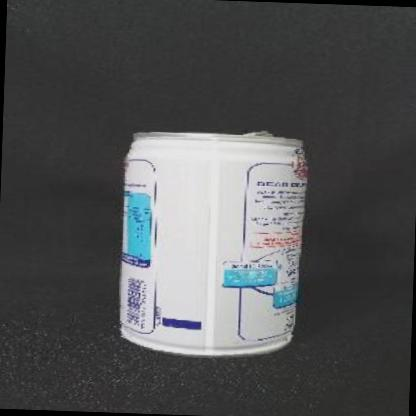alumunium_can: (116, 127, 310, 362)
